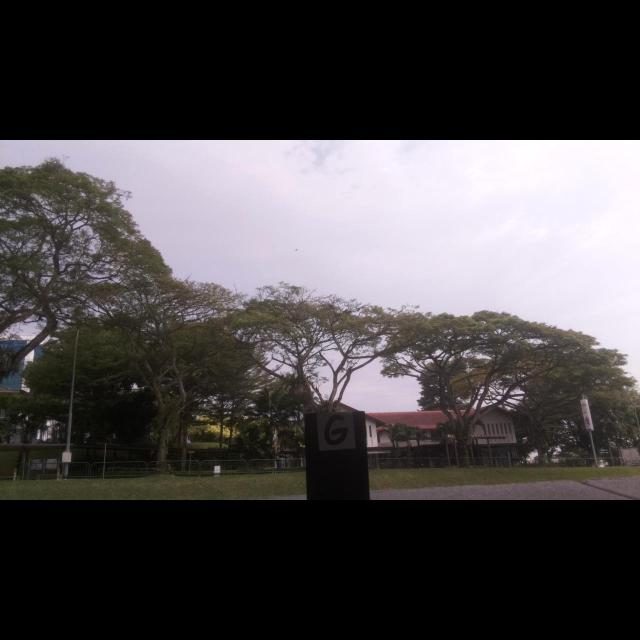G: (324, 415, 348, 445)
